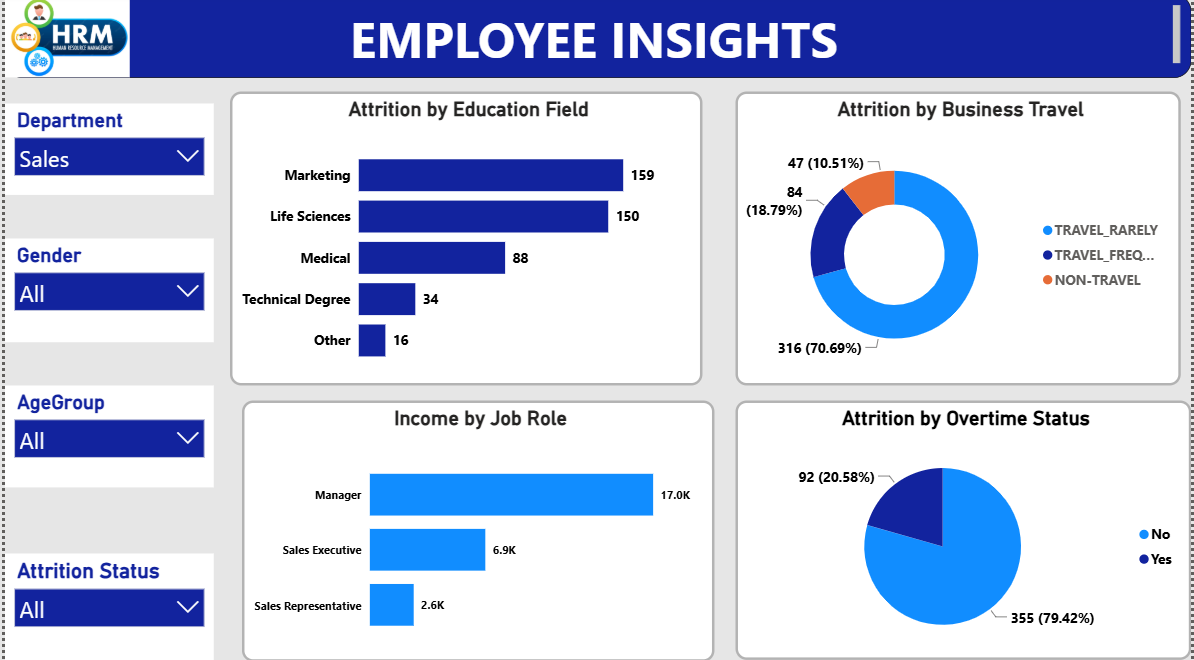

The dashboard page shown, as its layout file describes it:
{"tool":"powerbi","page":{"name":"Page 2","canvas":[1280,720],"ordinal":1},"visuals":[{"type":"textbox","box":[0,0,1280.8,90.7],"z":0},{"type":"image","box":[0,0,134.4,90.7],"z":1000},{"type":"pieChart","title":" Attrition by Overtime Status","fields":{"Category":["HR_DATA_CLEANED.Attrition"],"Y":["CountNonNull(HR_DATA_CLEANED.OverTime)"]},"box":[788.6,438.8,492.2,280.1],"z":2000},{"type":"clusteredBarChart","title":"Attrition by Education Field","fields":{"Category":["HR_DATA_CLEANED.EducationField"],"Y":["CountNonNull(HR_DATA_CLEANED.Attrition)"]},"box":[242.9,105.2,510.1,317.4],"z":3000},{"type":"donutChart","title":"Attrition by Business Travel","fields":{"Category":["HR_DATA_CLEANED.BusinessTravel"],"Y":["CountNonNull(HR_DATA_CLEANED.Attrition)"]},"box":[788.6,105.2,480.9,317.4],"z":4000},{"type":"slicer","fields":{"Values":["HR_DATA_CLEANED.Department"]},"box":[0,118.2,225.1,98.8],"z":5000},{"type":"slicer","fields":{"Values":["HR_DATA_CLEANED.Gender"]},"box":[0,263.9,225.1,111.7],"z":6000},{"type":"slicer","fields":{"Values":["HR_DATA_CLEANED.AgeGroup"]},"box":[0,422.6,225.1,110.1],"z":7000},{"type":"slicer","fields":{"Values":["HR_DATA_CLEANED.Attrition"]},"box":[0,604,225.1,116.6],"z":8000},{"type":"clusteredBarChart","title":"Income by Job Role","fields":{"Category":["HR_DATA_CLEANED.JobRole"],"Y":["Avg(HR_DATA_CLEANED.MonthlyIncome)"]},"box":[255.8,438.8,510.1,281.7],"z":9000}]}

Visuals, with their boxes in screenshot pixels (x1, y1, x2, y2), scaled from the page's 1280x720 canvas onto the 1194x660 screenshot:
textbox: region(0, 0, 1193, 83)
image: region(0, 0, 125, 83)
" Attrition by Overtime Status" pieChart: region(736, 402, 1193, 659)
"Attrition by Education Field" clusteredBarChart: region(227, 96, 702, 387)
"Attrition by Business Travel" donutChart: region(736, 96, 1184, 387)
slicer - HR_DATA_CLEANED.Department: region(0, 108, 210, 199)
slicer - HR_DATA_CLEANED.Gender: region(0, 242, 210, 344)
slicer - HR_DATA_CLEANED.AgeGroup: region(0, 387, 210, 488)
slicer - HR_DATA_CLEANED.Attrition: region(0, 554, 210, 659)
"Income by Job Role" clusteredBarChart: region(239, 402, 714, 659)
